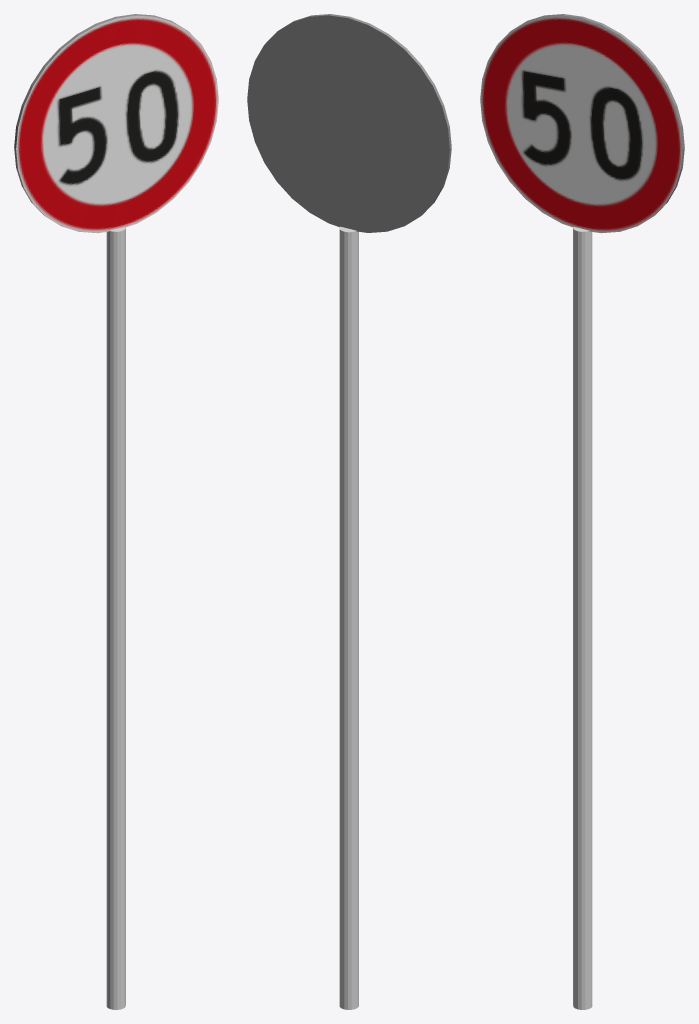
Rendered from azami_hiz_sinirlamasi.fbx.
3 renders of one model, left to right at view 1: azimuth 30°, elevation 25°; view 2: azimuth 150°, elevation 25°; view 3: azimuth 330°, elevation 25°, orthographic.
Parts seen in each view (by area): view 1: azami_hiz_sinirlamasi; view 2: azami_hiz_sinirlamasi; view 3: azami_hiz_sinirlamasi.
Part boxes in pixels (x1,y1,x2,y2): azami_hiz_sinirlamasi: [14, 14, 218, 1009]; azami_hiz_sinirlamasi: [247, 14, 451, 1009]; azami_hiz_sinirlamasi: [480, 14, 684, 1009].
Bounding box in the file's own units: 60 × 280 × 5.
3 materials, 1 textured.
